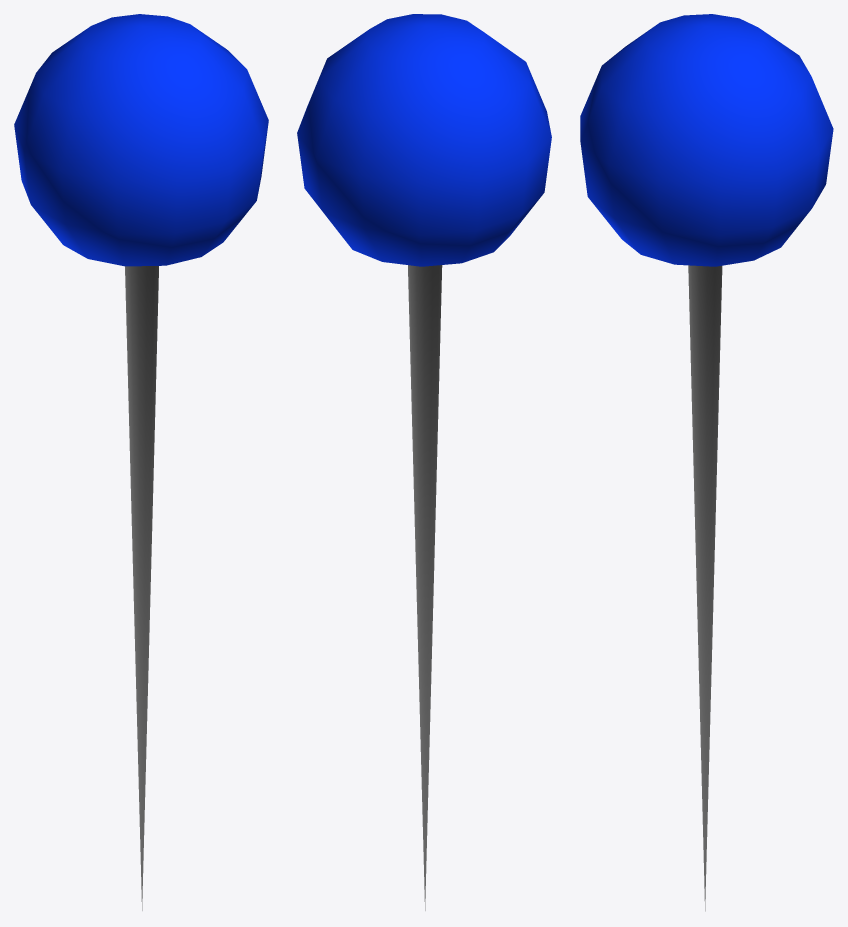
File: pin_active_left.FBX
The picture shows the model from 3 angles, left to right: view 1: azimuth 30°, elevation 25°; view 2: azimuth 150°, elevation 25°; view 3: azimuth 270°, elevation 25°; orthographic projection.
Visible parts, largest first — view 1: Sphere001; view 2: Sphere001; view 3: Sphere001.
Part boxes in pixels (<box>): Sphere001: <box>14,14,268,910</box>; Sphere001: <box>297,14,551,910</box>; Sphere001: <box>580,14,833,911</box>.
Size of the model in its own units: 86.26 by 331 by 85.63.
